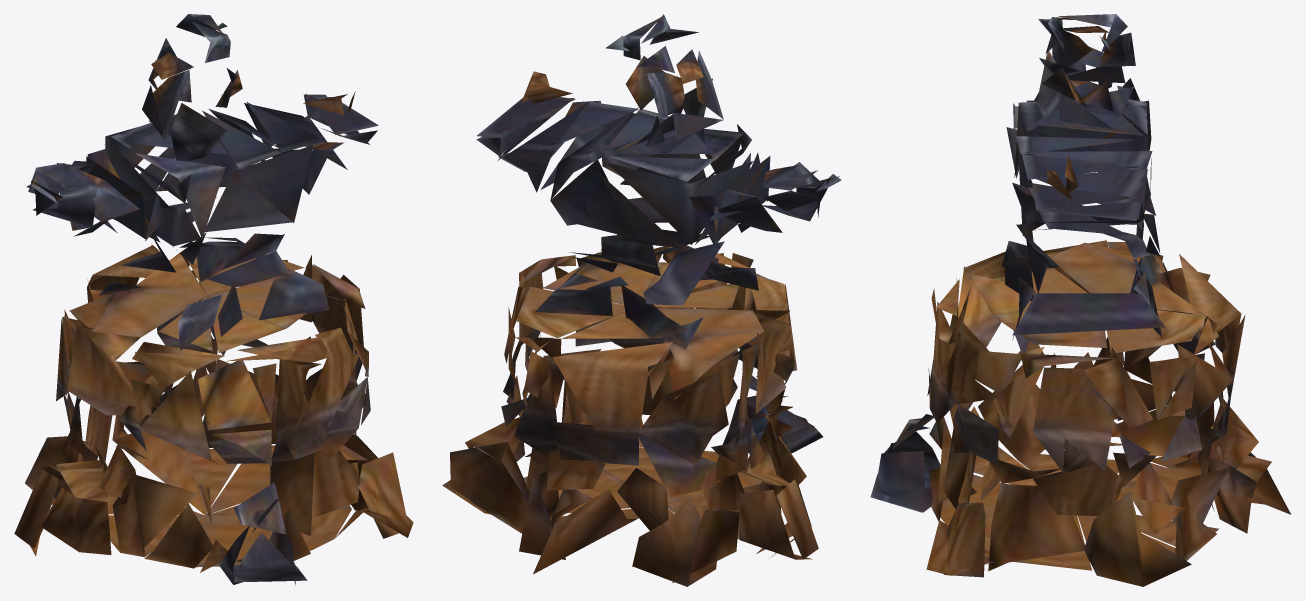
Rendered from at-enclume-semis.glb.
The picture shows the model from 3 angles, left to right: view 1: azimuth 30°, elevation 25°; view 2: azimuth 150°, elevation 25°; view 3: azimuth 270°, elevation 25°; orthographic projection. The views are drawn at different scales.
Visible parts, largest first — view 1: at-enclume-semis; view 2: at-enclume-semis; view 3: at-enclume-semis.
Part boxes in pixels (left/top/right/bottom): at-enclume-semis: left=14, top=14, right=413, bottom=585; at-enclume-semis: left=442, top=14, right=841, bottom=586; at-enclume-semis: left=870, top=14, right=1291, bottom=586.
Bounding box in the file's own units: 0.7225 × 0.958 × 0.7286.
Materials: 1 (1 with a texture image).
